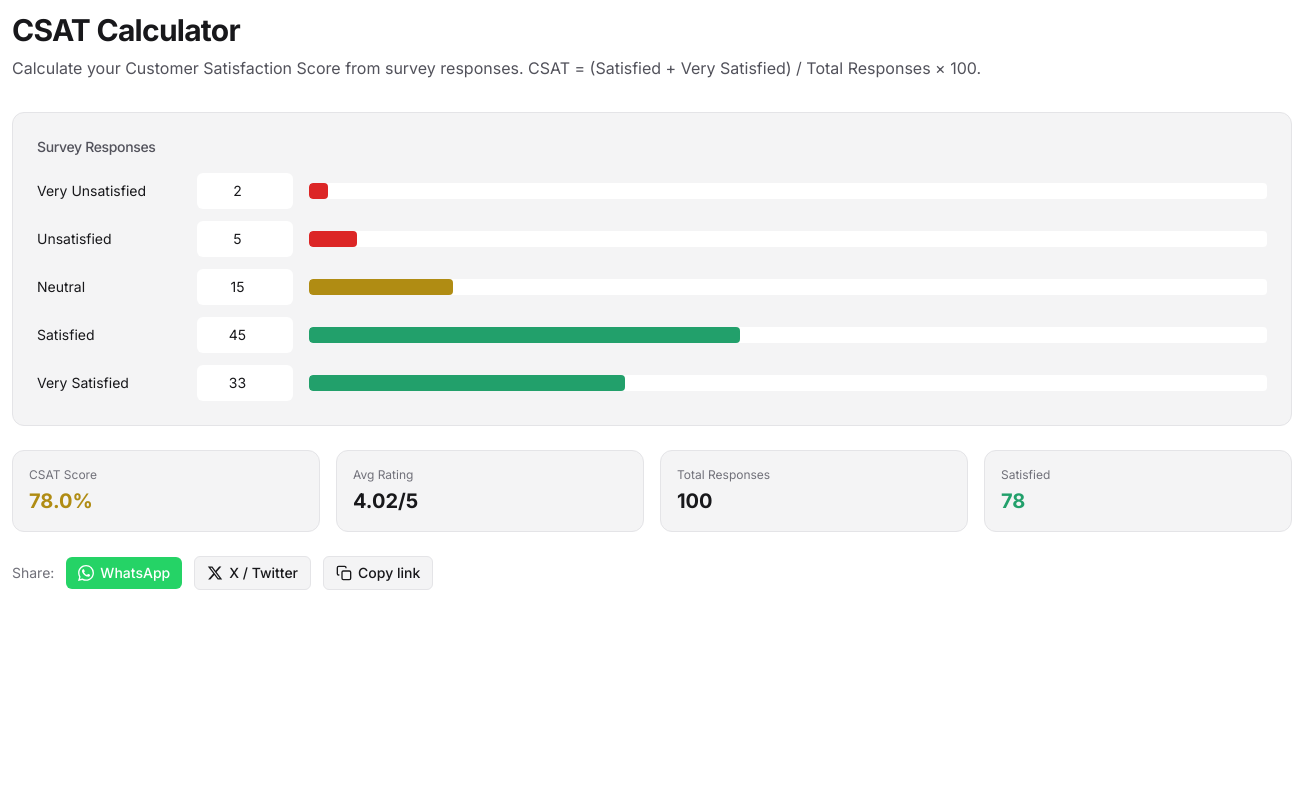
Test: CsatCalculator › updates when survey counts change
Note: Change "Very Satisfied" to 50
Replace the text in the 5th number field with "50" at (245, 383), box [197,365,293,401]
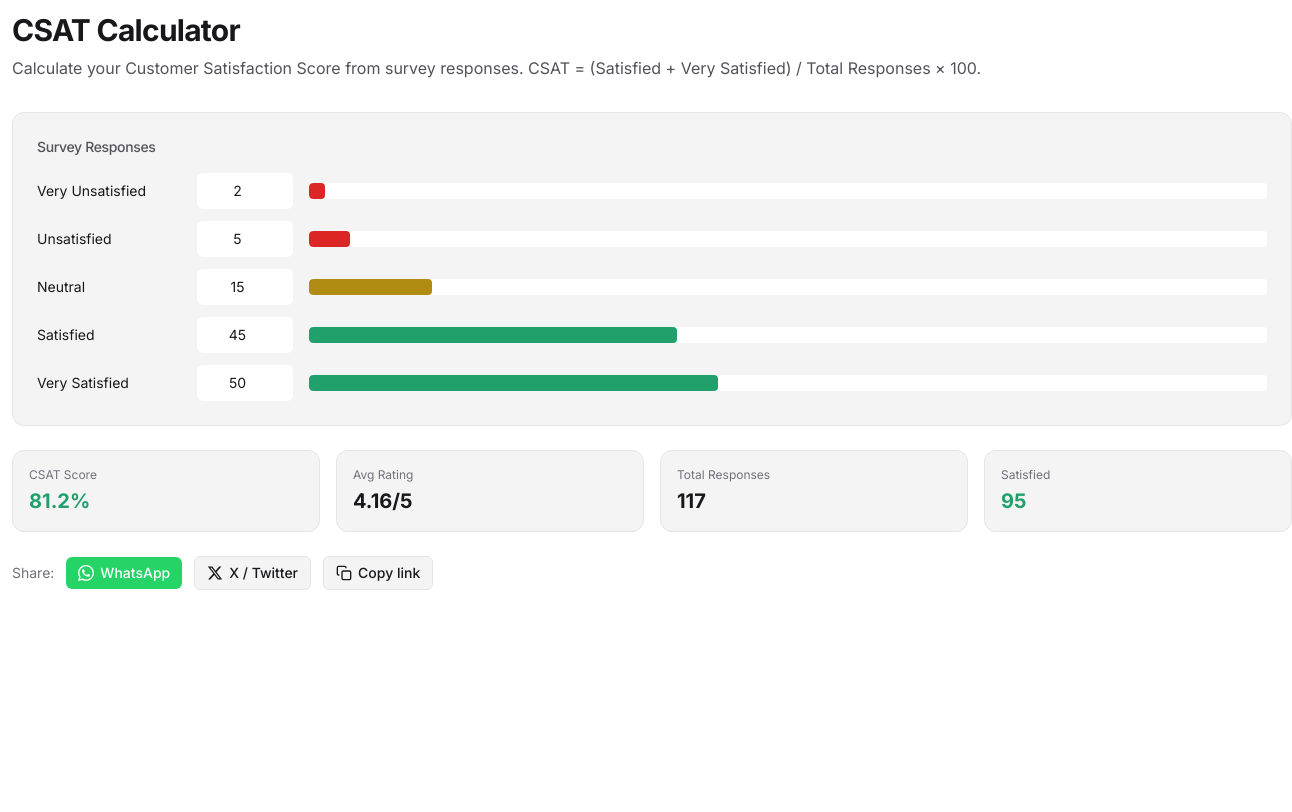
Expected: the text "117" is shown, [677,489,706,513]
